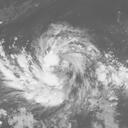cyclone: (14, 32, 87, 109)
